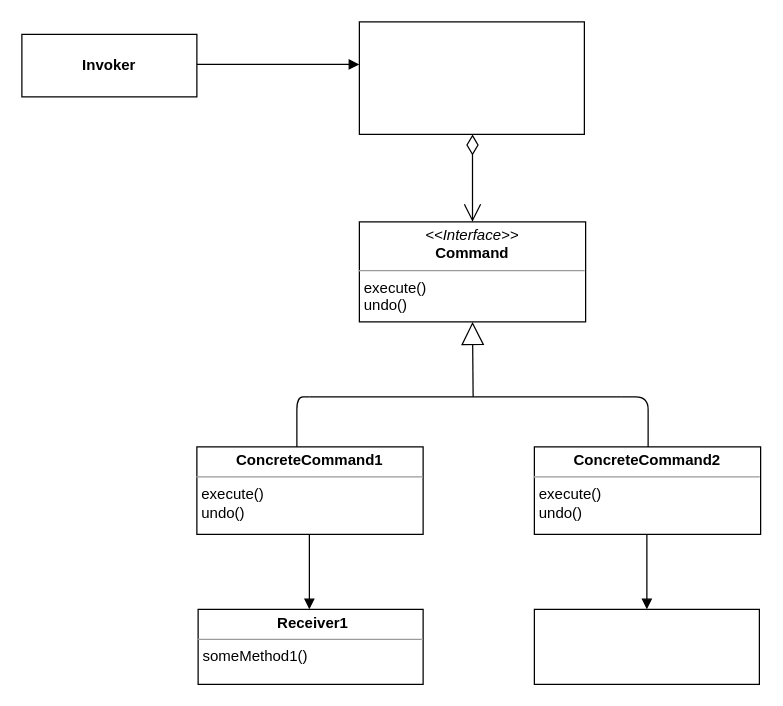
This 783x706 diagram has some shape labels left out. Each missing label, with the box of its shape:
CommandProcessor commandStack: Command[] run(command: Command) undo(): (358, 21, 584, 134)
Receiver2 someMethod2(): (533, 608, 759, 684)
